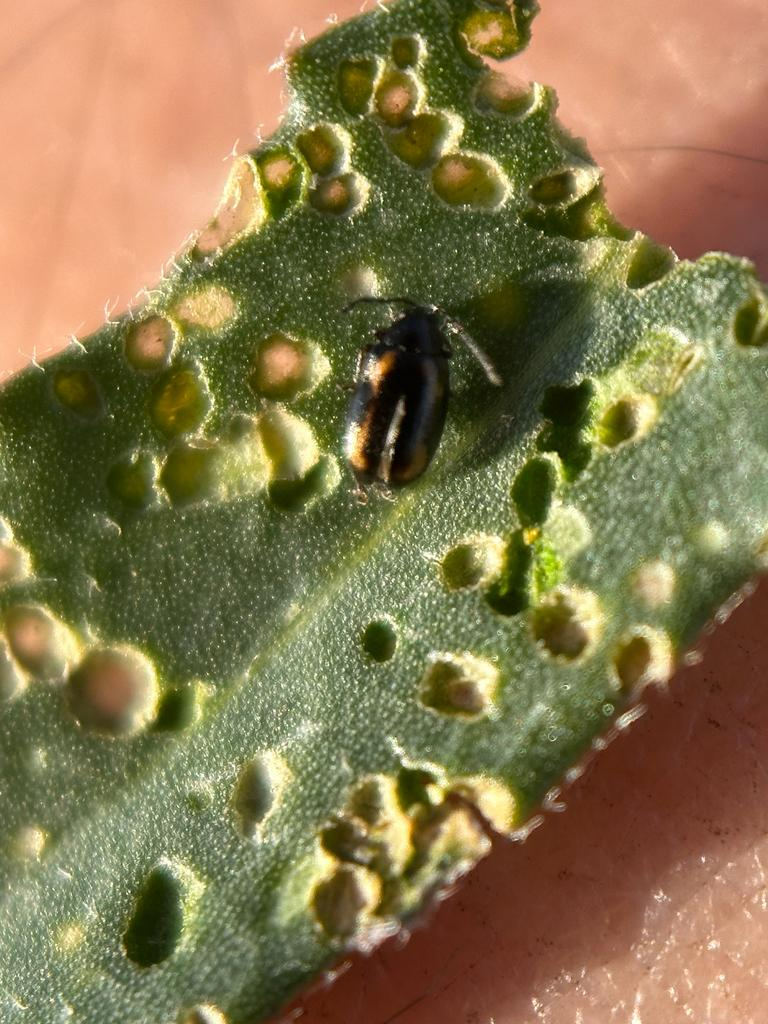flea_beetle: (266, 259, 535, 529)
